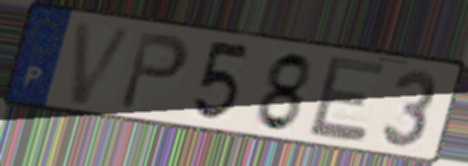3: (379, 67, 440, 151)
5: (189, 38, 256, 124)
8: (254, 47, 315, 136)
E: (306, 52, 390, 144)
P: (116, 29, 192, 114)
V: (66, 19, 139, 108)
